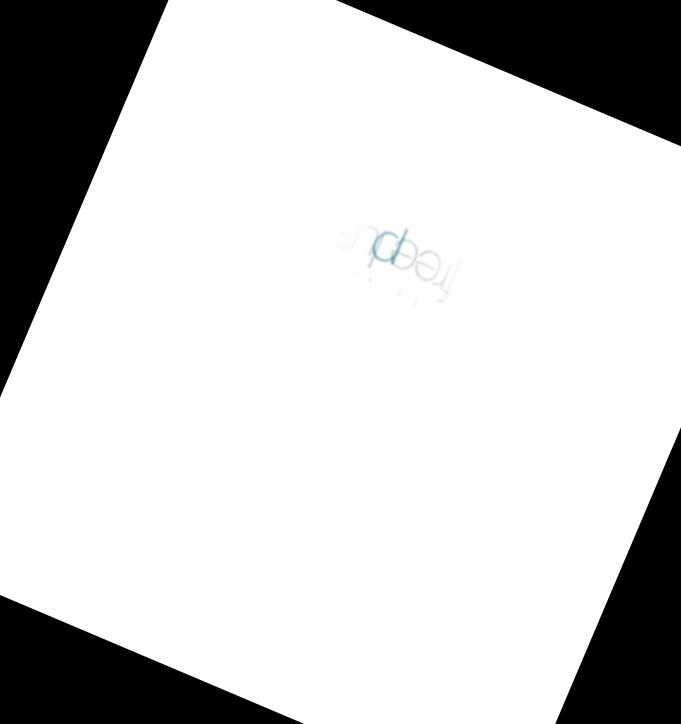cosmetic: (113, 59, 563, 695)
